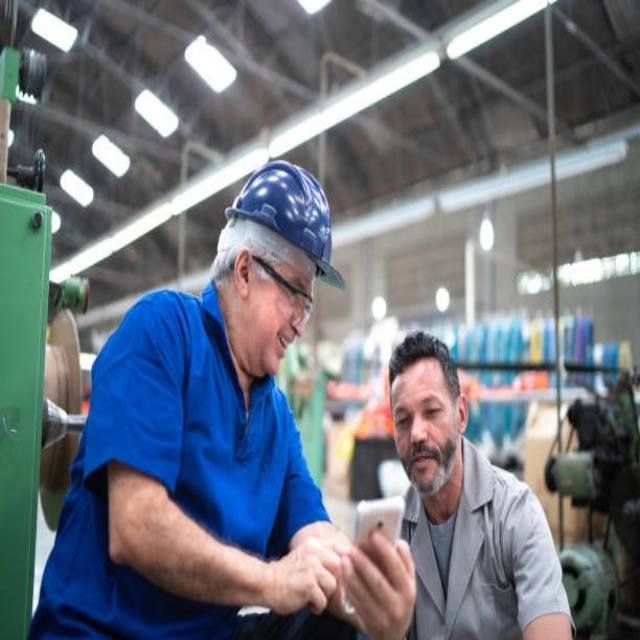Gafas: (249, 253, 316, 330)
Sin_gafas: (392, 386, 447, 430)
Sin_guantes: (338, 527, 417, 640), (264, 529, 339, 615)
Sin_mascara: (258, 329, 296, 370), (405, 444, 441, 485)
